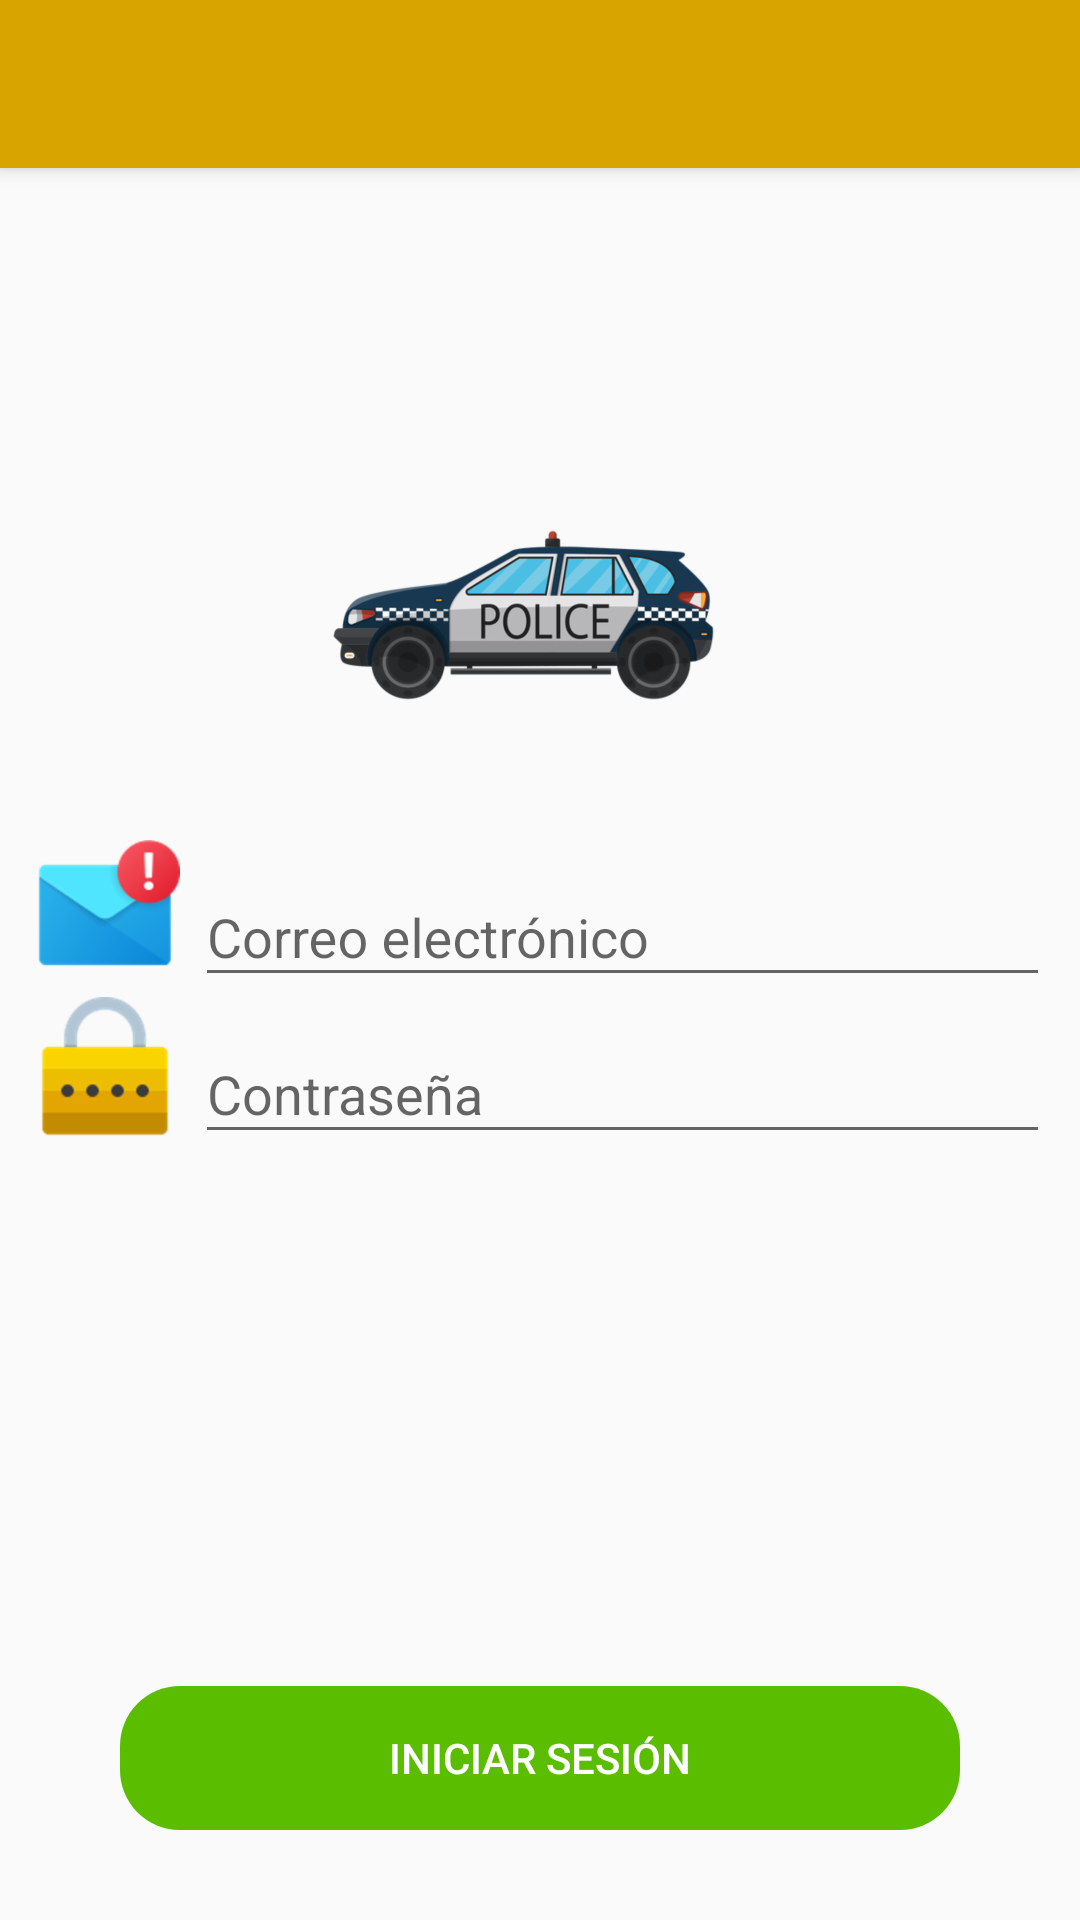

Locate icon controls on the screen. Image size 1080w x 1920h, boxes as (x1,y1,x2,y2).
contrasena: (42,997,168,1135)
